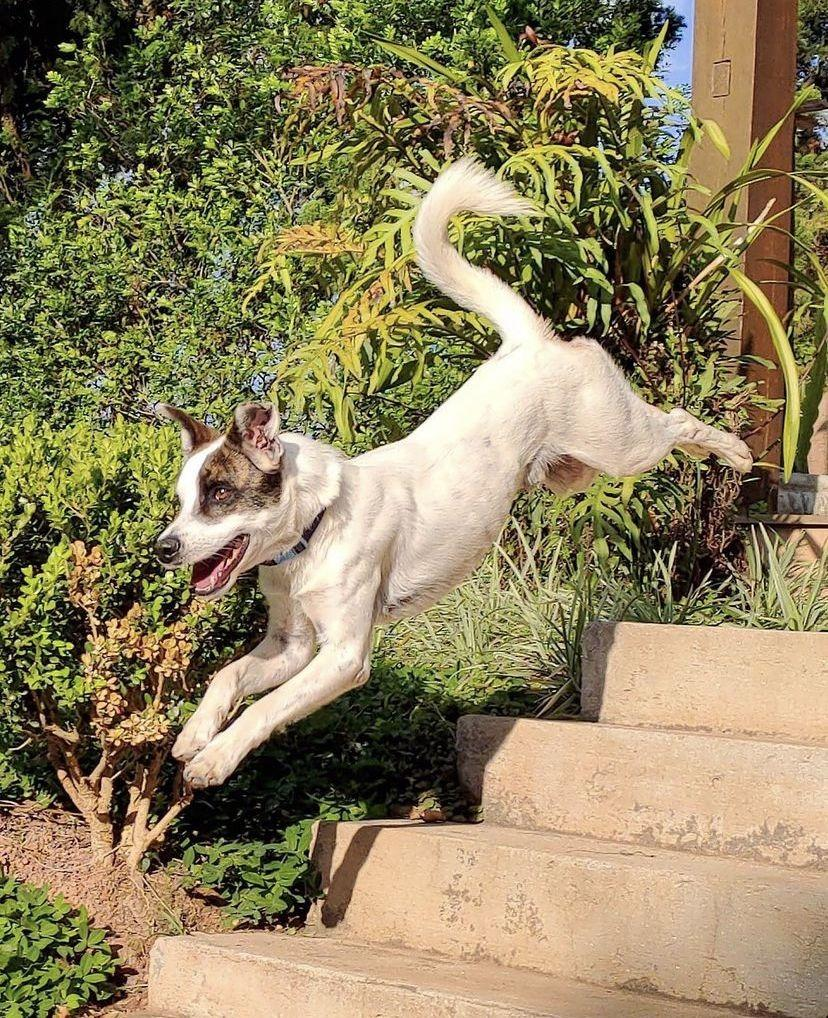adult_dog: (148, 155, 753, 791)
